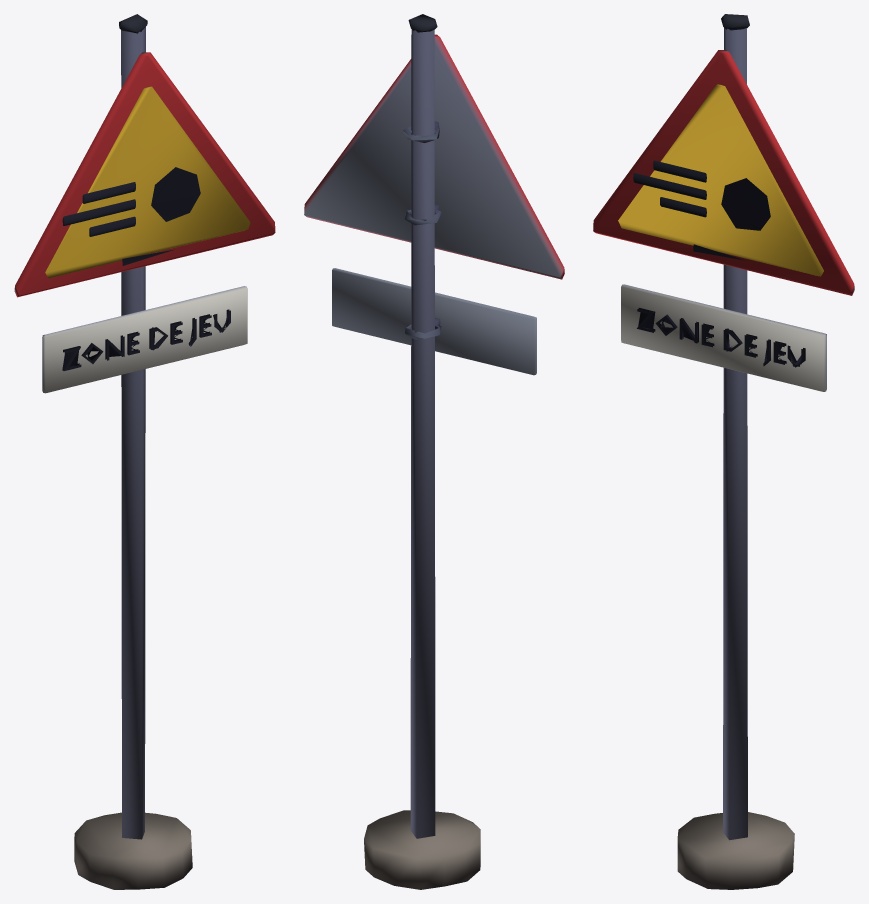
File: panneau_avertissement.glb
The picture shows the model from 3 angles, left to right: view 1: azimuth 30°, elevation 25°; view 2: azimuth 150°, elevation 25°; view 3: azimuth 330°, elevation 25°; orthographic projection.
Visible parts, largest first — view 1: panneau_avertissement; view 2: panneau_avertissement; view 3: panneau_avertissement.
Part boxes in pixels (x1,y1,x2,y2): panneau_avertissement: (14, 14, 275, 889); panneau_avertissement: (304, 14, 564, 889); panneau_avertissement: (593, 14, 854, 889).
Size of the model in its own units: 0.7852 by 2.45 by 0.3116.
